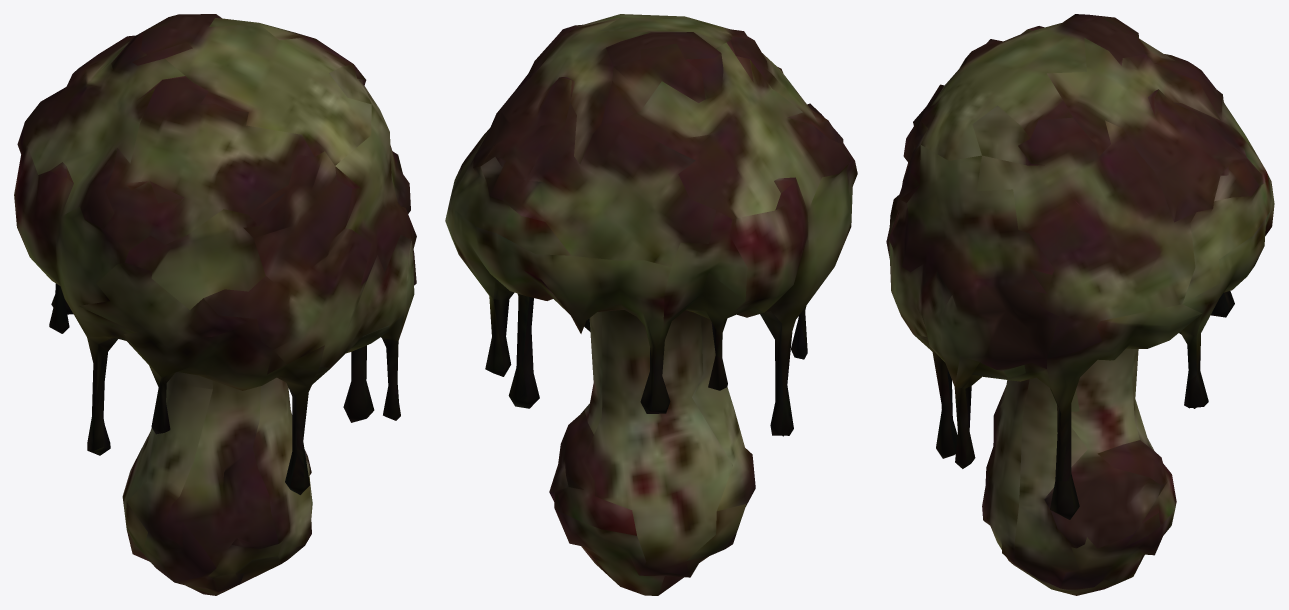
The model's file is cogu_amanita_venenosa.glb.
3 views of the same model, side by side, from view 1: azimuth 30°, elevation 25°; view 2: azimuth 150°, elevation 25°; view 3: azimuth 270°, elevation 25° (orthographic).
Visible parts, largest first — view 1: geometry_0.001; view 2: geometry_0.001; view 3: geometry_0.001.
Part boxes in pixels (x1,y1,x2,y2): geometry_0.001: [14, 14, 416, 595]; geometry_0.001: [445, 14, 857, 595]; geometry_0.001: [886, 14, 1274, 595].
Bounding box in the file's own units: 0.6529 × 1 × 0.6381.
Materials: 1 (1 with a texture image).
